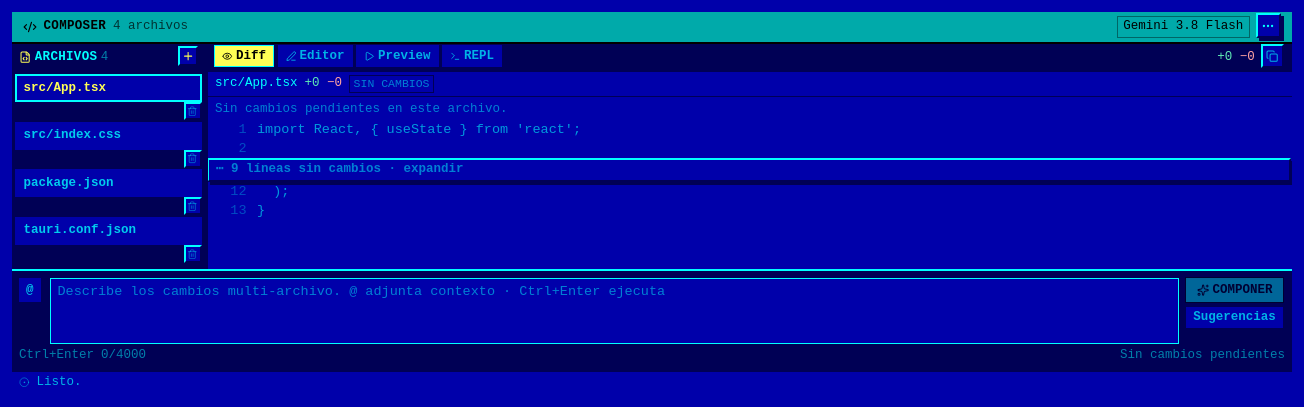
Scenario: ComposerPlayground › un error del proveedor se cuenta en la barra de estado, no en un alert
This screenshot has width=1304, height=407.
Replace the text in the text box with test id "composer-prompt" with "cambia el título" at (614, 311), box [50,278,1179,344]
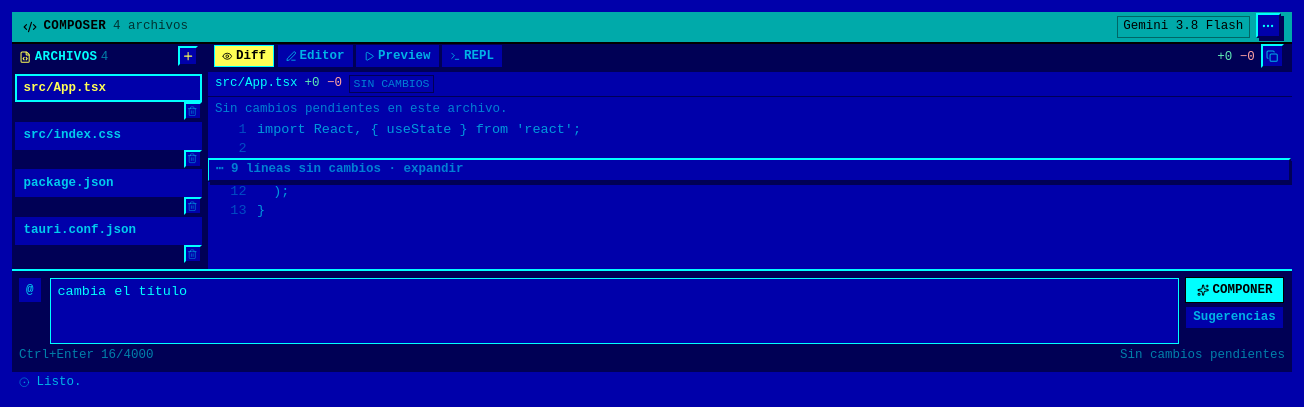
Click the button with test id "composer-run" at (1235, 290), box [1185,277,1284,303]
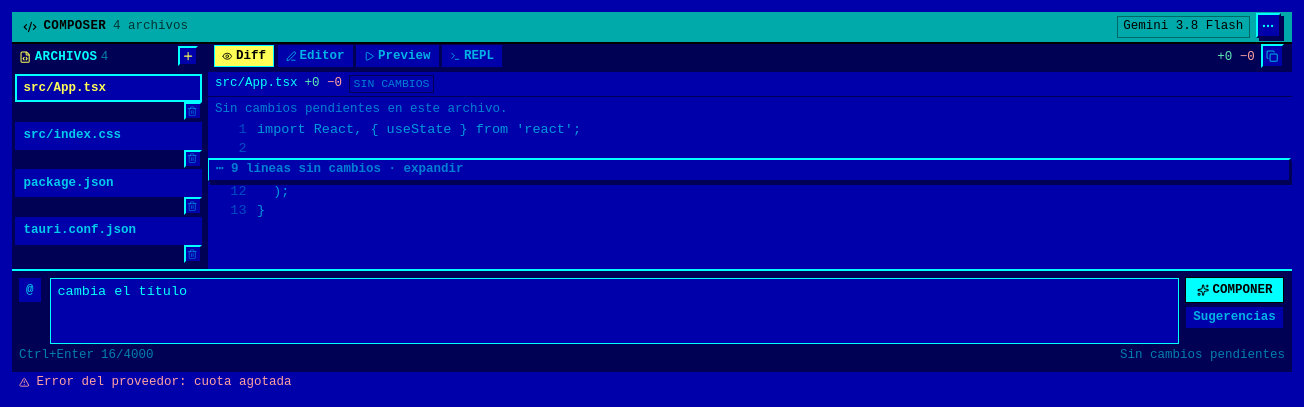
Expected: the text "Error del proveedor: cuota agotada" is shown, [36,374,292,390]
